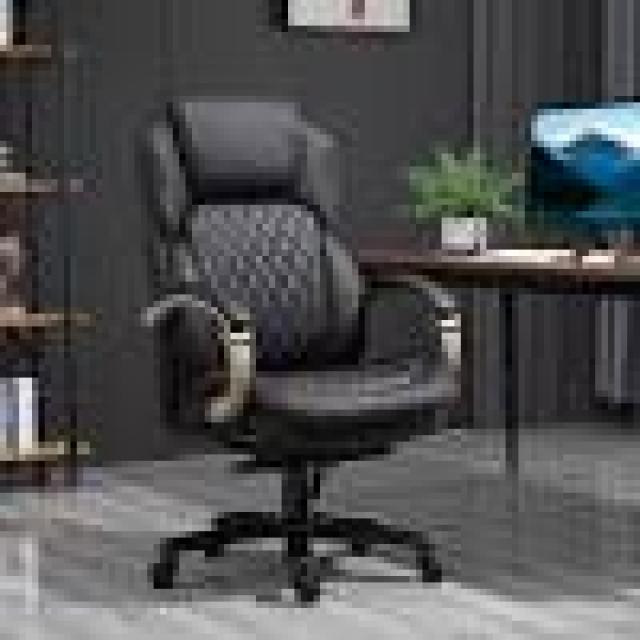chair: (58, 64, 474, 640)
